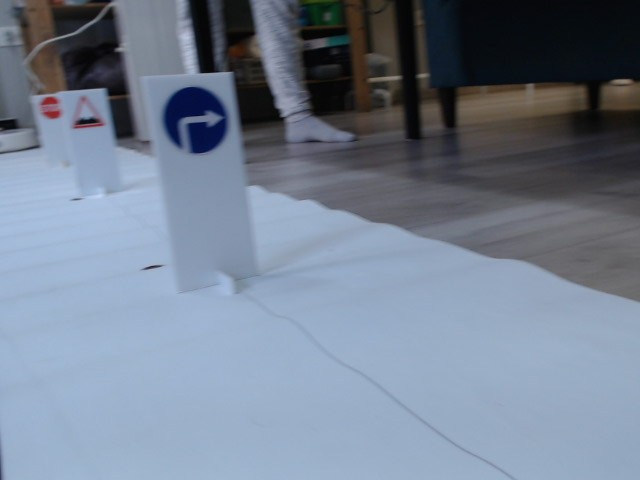Nerov: (68, 96, 106, 130)
Right: (162, 85, 230, 157)
